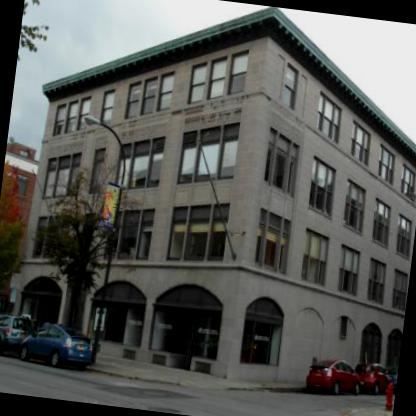car: (8, 322, 94, 375), (304, 353, 364, 398), (0, 309, 38, 360), (354, 362, 395, 398), (384, 359, 398, 395)
